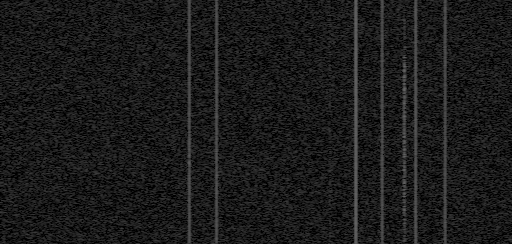wv_am: (181, 0, 198, 244), (208, 0, 225, 244), (438, 0, 452, 244), (328, 0, 332, 115), (328, 208, 332, 244), (328, 119, 332, 145), (328, 167, 332, 186), (328, 187, 332, 205), (328, 147, 332, 165)
wv_cw: (342, 0, 371, 244), (407, 0, 425, 244), (376, 0, 389, 244)
wv_usb: (401, 6, 408, 244)
